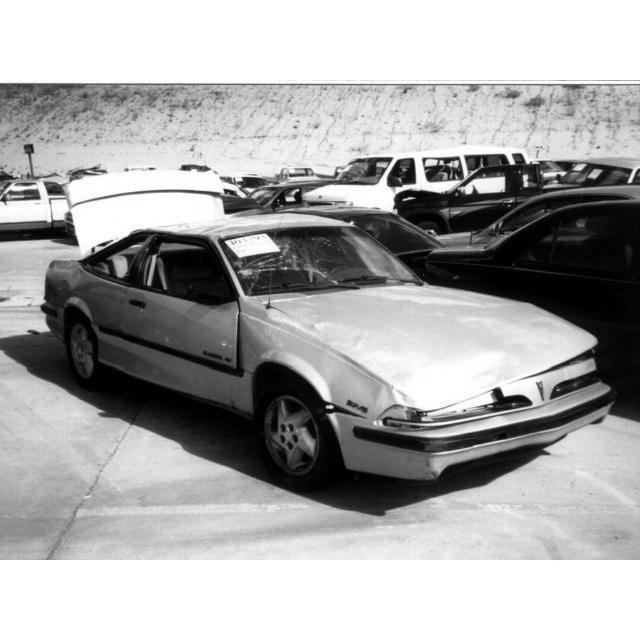Front-windscreen-damage: (229, 231, 378, 297)
bonnet-dent: (308, 283, 556, 365)
fender-dent: (270, 360, 394, 423)
